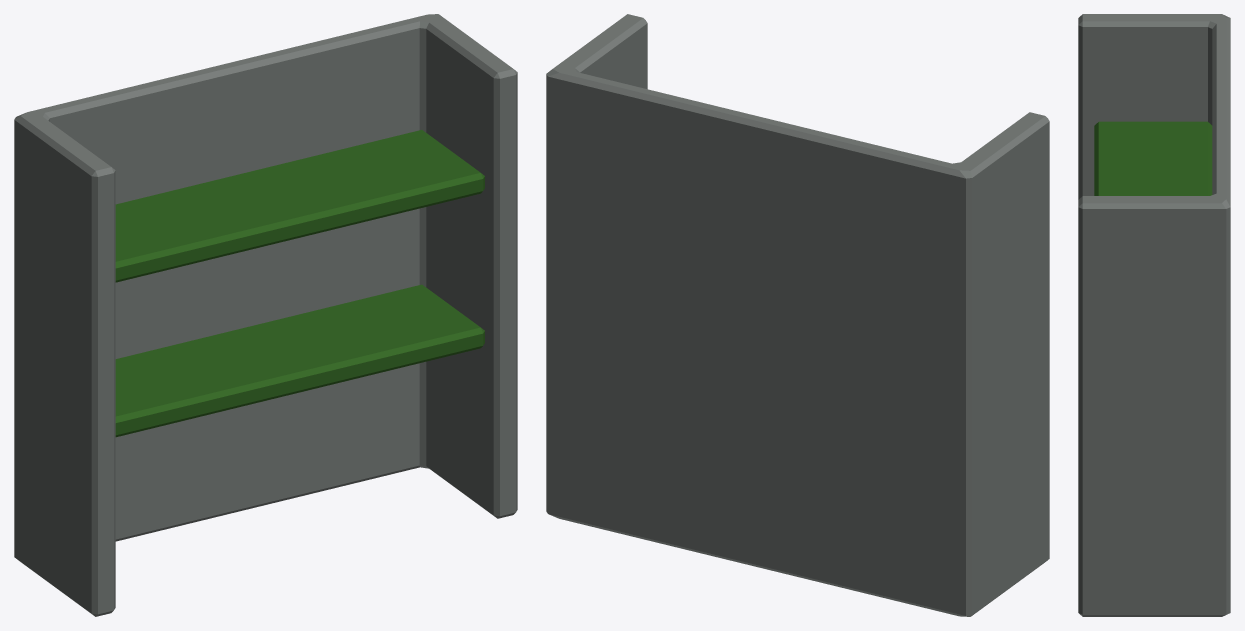
Rendered from Shelf_00.fbx.
3 renders of one model, left to right at view 1: azimuth 30°, elevation 25°; view 2: azimuth 150°, elevation 25°; view 3: azimuth 270°, elevation 25°, orthographic. The views are drawn at different scales.
Visible parts, largest first — view 1: Shelf_00; view 2: Shelf_00; view 3: Shelf_00.
Part boxes in pixels (x1,y1,x2,y2): Shelf_00: (14,14,517,616); Shelf_00: (546,14,1049,616); Shelf_00: (1078,14,1230,616).
Bounding box in the file's own units: 300 × 300 × 100.
